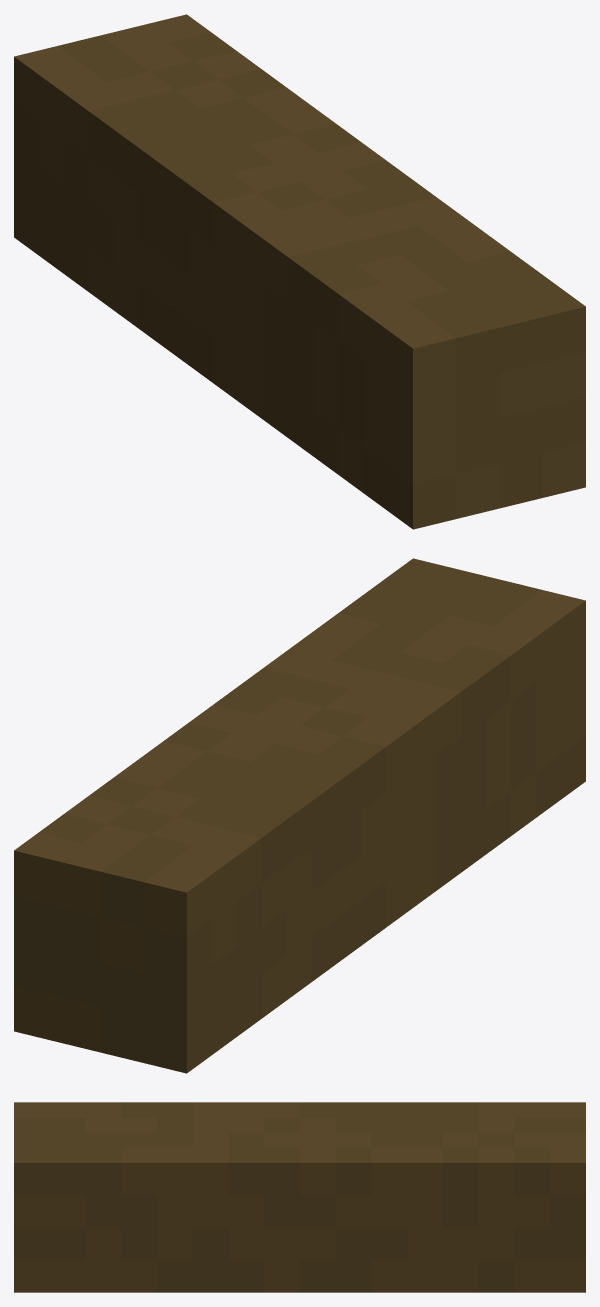
Rendered from tavern-38-roof_top4px.obj.
The picture shows the model from 3 angles, top to bottom: view 1: azimuth 30°, elevation 25°; view 2: azimuth 150°, elevation 25°; view 3: azimuth 270°, elevation 25°; orthographic projection. The views are drawn at different scales.
Parts seen in each view (by area): view 1: roof_top4px; view 2: roof_top4px; view 3: roof_top4px.
Boxes of the visible parts, x1,y1,x2,y2 form: roof_top4px: (14, 14, 585, 529); roof_top4px: (14, 558, 585, 1073); roof_top4px: (14, 1102, 585, 1292).
Bounding box in the file's own units: 0.4 × 0.4 × 1.6.
1 material, 1 textured.
